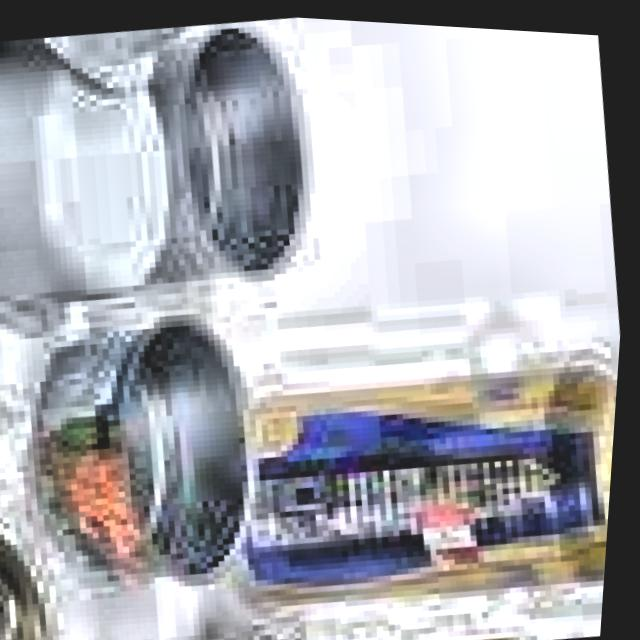metal: (197, 324, 624, 636), (7, 291, 301, 617), (95, 5, 368, 310)
